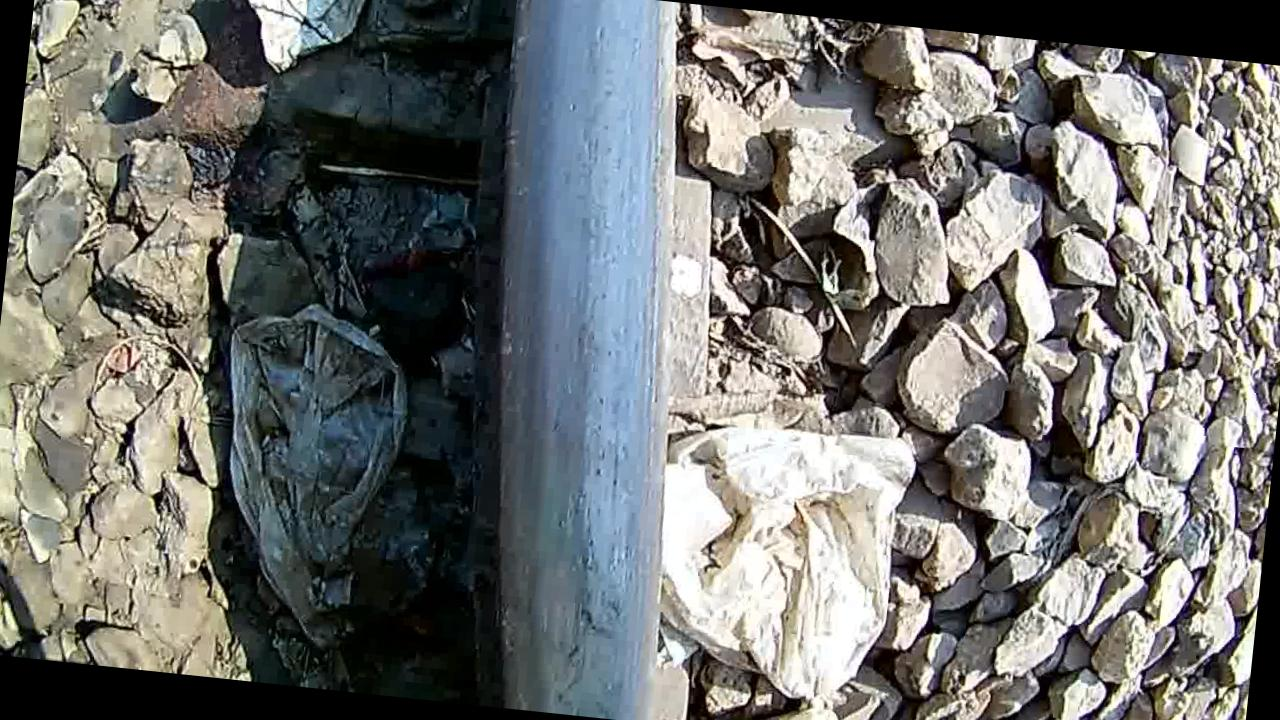bolt_missing: (484, 470, 664, 720)
